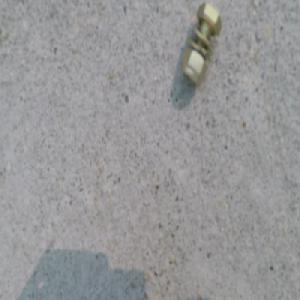BoltNutSet: (182, 7, 222, 85)
